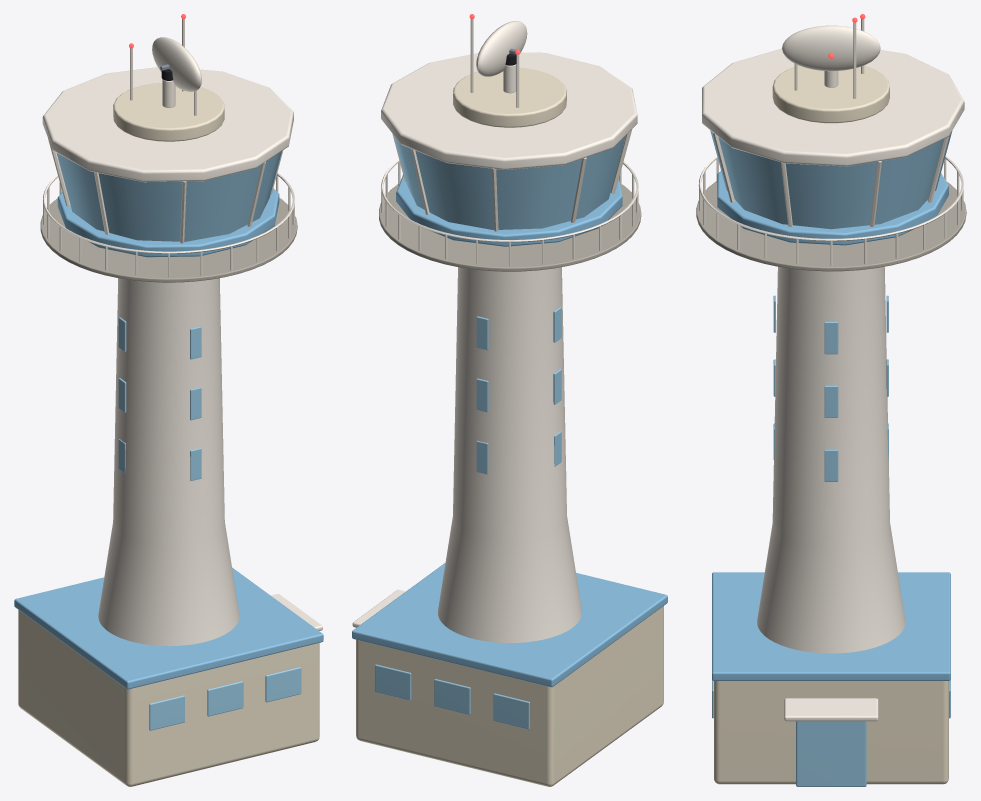
The model's file is control_tower.glb.
3 renders of one model, left to right at view 1: azimuth 30°, elevation 25°; view 2: azimuth 150°, elevation 25°; view 3: azimuth 270°, elevation 25°, orthographic. The views are drawn at different scales.
Visible parts, largest first — view 1: control_tower, radar; view 2: control_tower, radar; view 3: control_tower, radar.
Part boxes in pixels (x1,y1,x2,y2): control_tower: [14, 14, 323, 786]; radar: [152, 37, 201, 91]; control_tower: [352, 14, 667, 786]; radar: [476, 21, 527, 76]; control_tower: [696, 14, 966, 786]; radar: [782, 25, 880, 71].
Bounding box in the file's own units: 7.55 × 20.62 × 6.89.
1 material, 1 textured.
